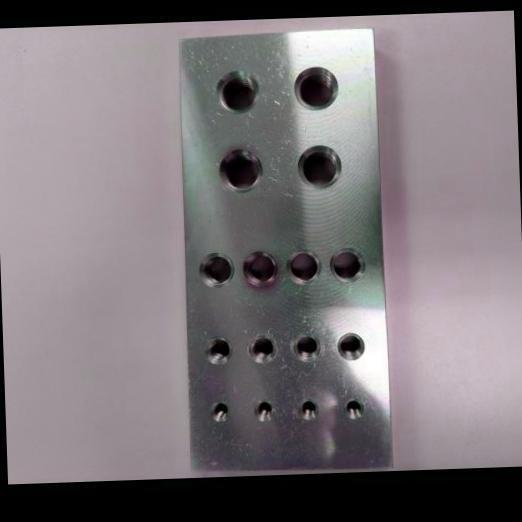hole: (218, 146, 265, 194), (292, 65, 340, 112), (297, 143, 344, 191), (215, 70, 260, 115), (284, 247, 322, 286), (328, 245, 366, 284), (242, 250, 279, 288), (199, 252, 236, 289), (247, 332, 279, 364), (203, 335, 234, 365), (292, 332, 322, 363), (336, 331, 366, 362), (253, 398, 276, 422), (210, 400, 232, 423), (298, 398, 320, 421), (343, 397, 364, 420)
